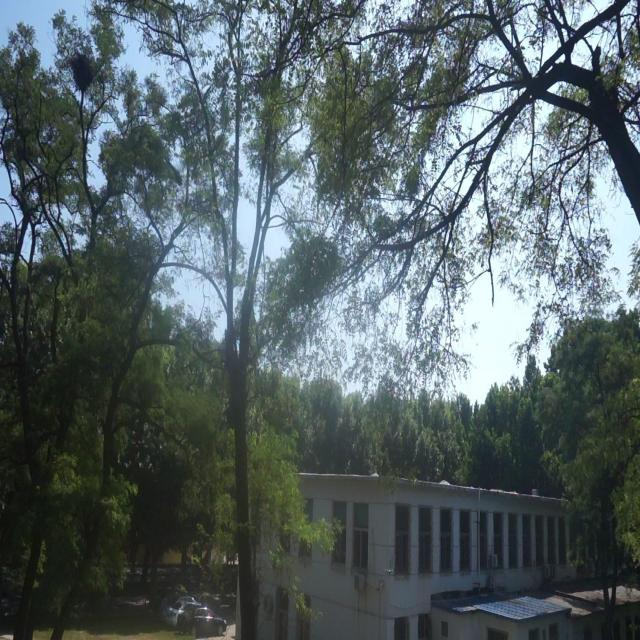UAV: (384, 568, 395, 575)
